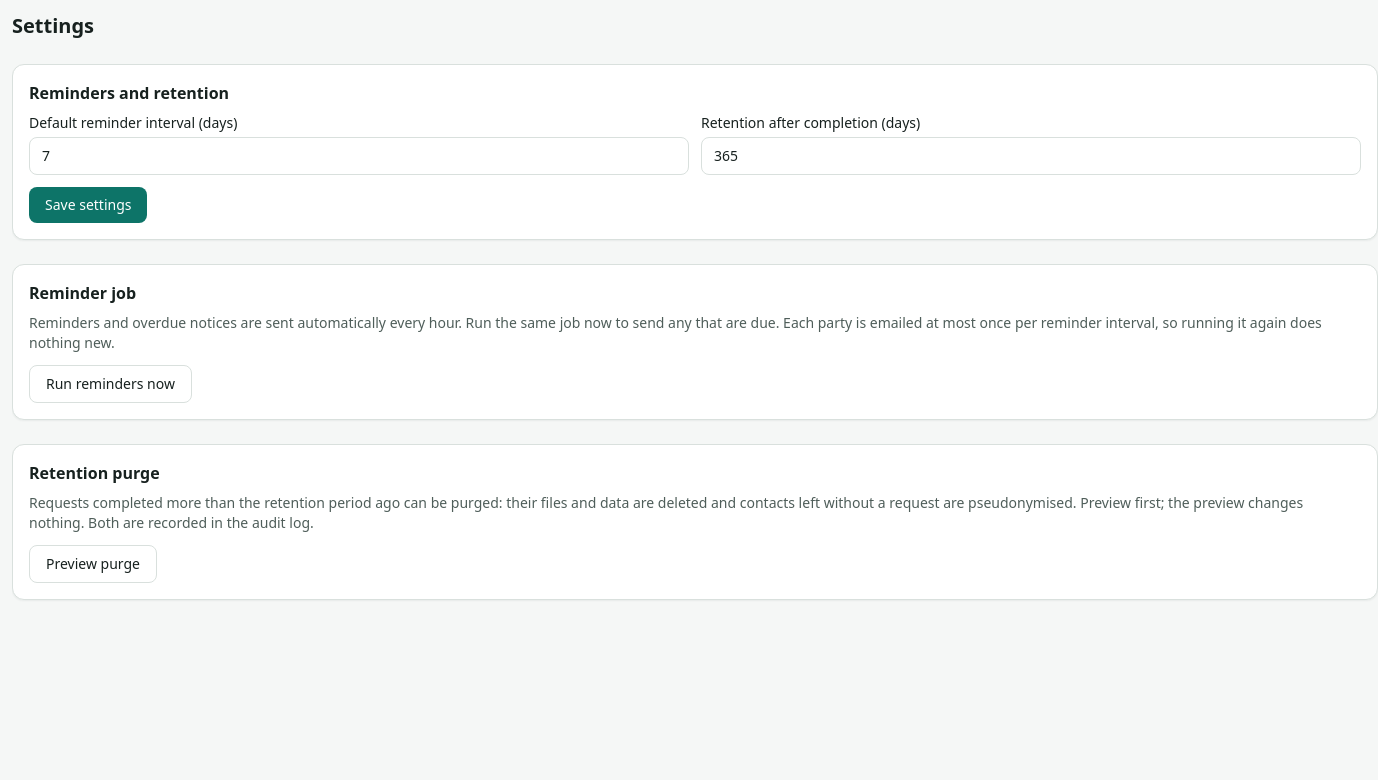
SettingsPage › shows validation errors from the API
What coordinates should you click on to do the following:
click the button "Save settings"
I would click on:
 (88, 205)
Its box is [29, 187, 148, 223].
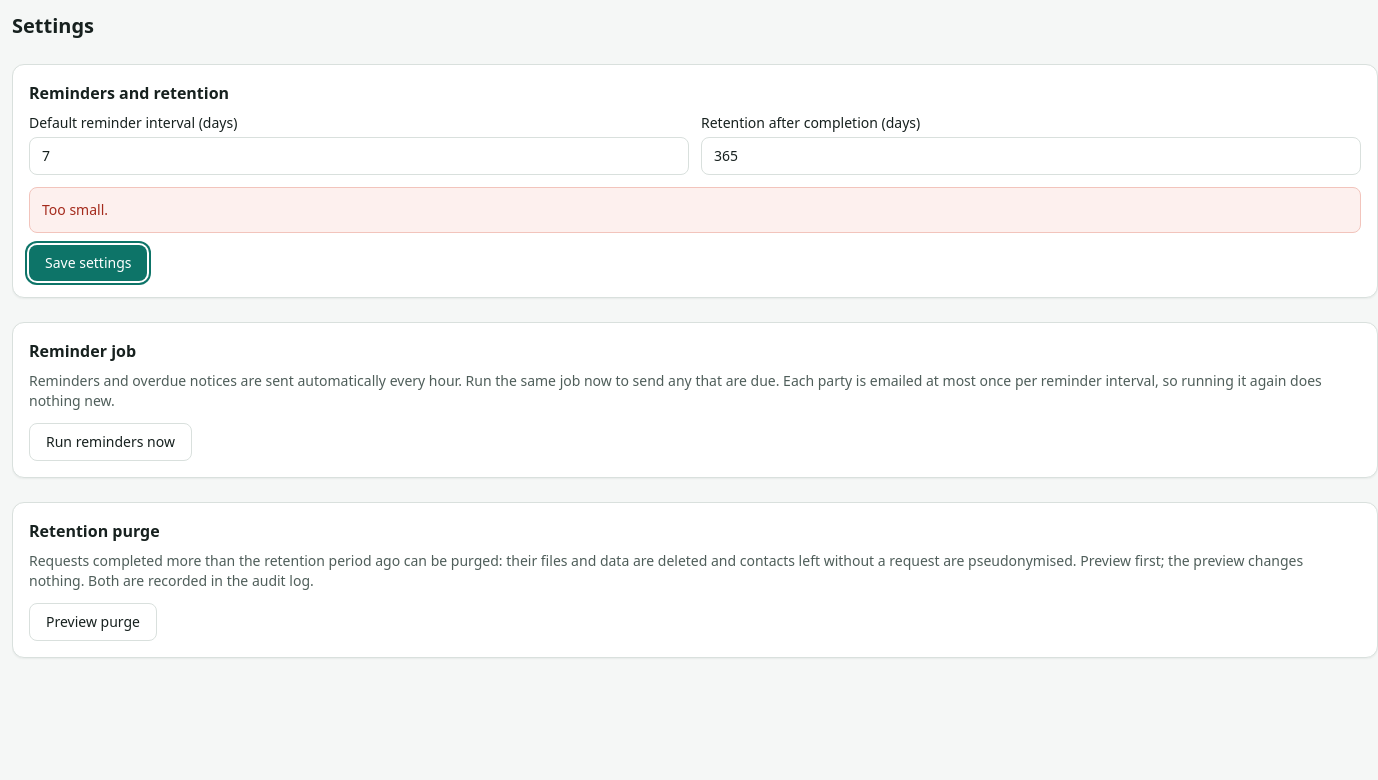
Expected: the message reads "Too small.", [42, 200, 108, 219]
